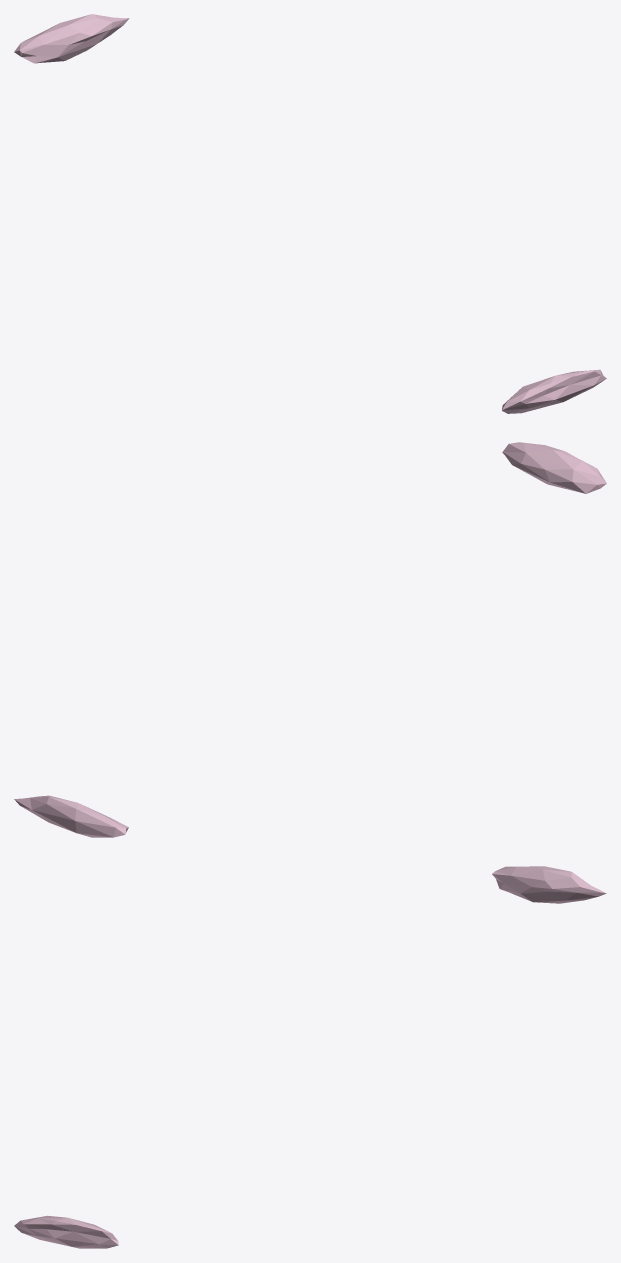
3 renders of one model, top to bottom at view 1: azimuth 30°, elevation 25°; view 2: azimuth 150°, elevation 25°; view 3: azimuth 330°, elevation 25°, orthographic.
Visible parts, largest first — view 1: 939.obj; view 2: 939.obj; view 3: 939.obj.
Part boxes in pixels (<box>): 939.obj: <box>14,14,606,413</box>; 939.obj: <box>14,442,606,837</box>; 939.obj: <box>14,866,606,1248</box>.
Size of the model in its own units: 387 by 113 by 2923.
